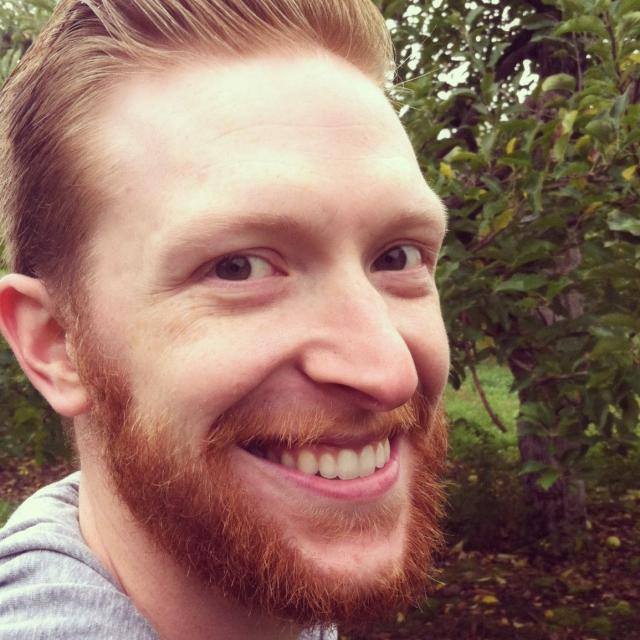Normal: (68, 41, 453, 602)
